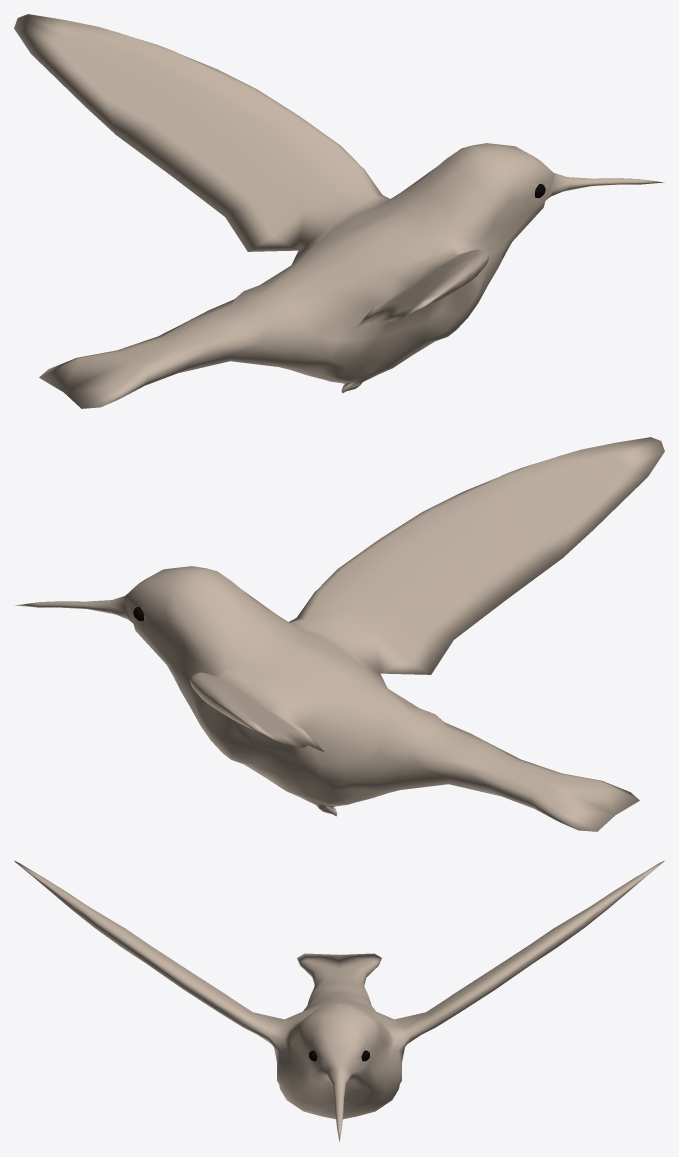
The model's file is Colibri.obj.
The picture shows the model from 3 angles, top to bottom: view 1: azimuth 30°, elevation 25°; view 2: azimuth 150°, elevation 25°; view 3: azimuth 270°, elevation 25°; orthographic projection. The views are drawn at different scales.
Visible parts, largest first — view 1: humbird; view 2: humbird; view 3: humbird.
Boxes of the visible parts, x1,y1,x2,y2 form: humbird: (14, 14, 664, 408); humbird: (14, 437, 664, 831); humbird: (14, 860, 664, 1142).
Size of the model in its own units: 0.0882 by 0.0341 by 0.1008.
